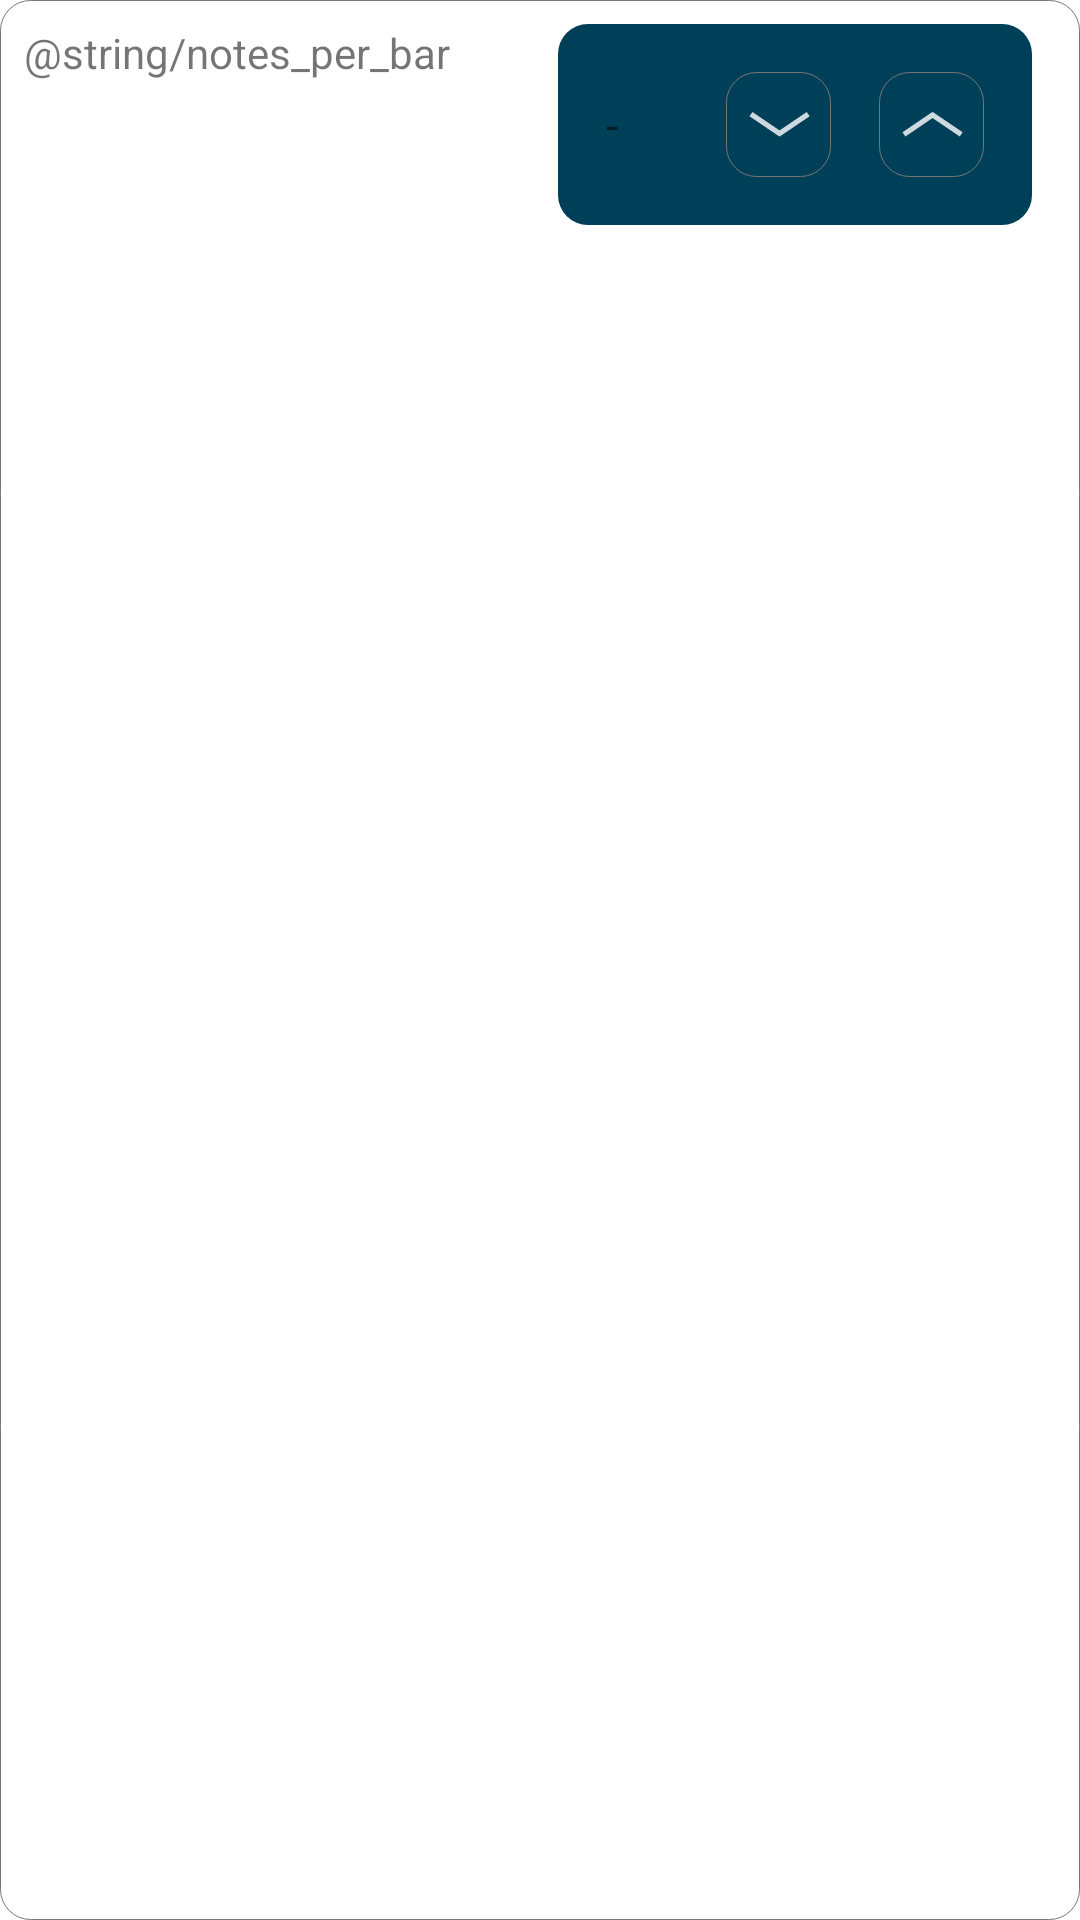

Icon click points for this 1080px x 1920px phone screenshot, format point (x, y):
down: point (778, 124)
